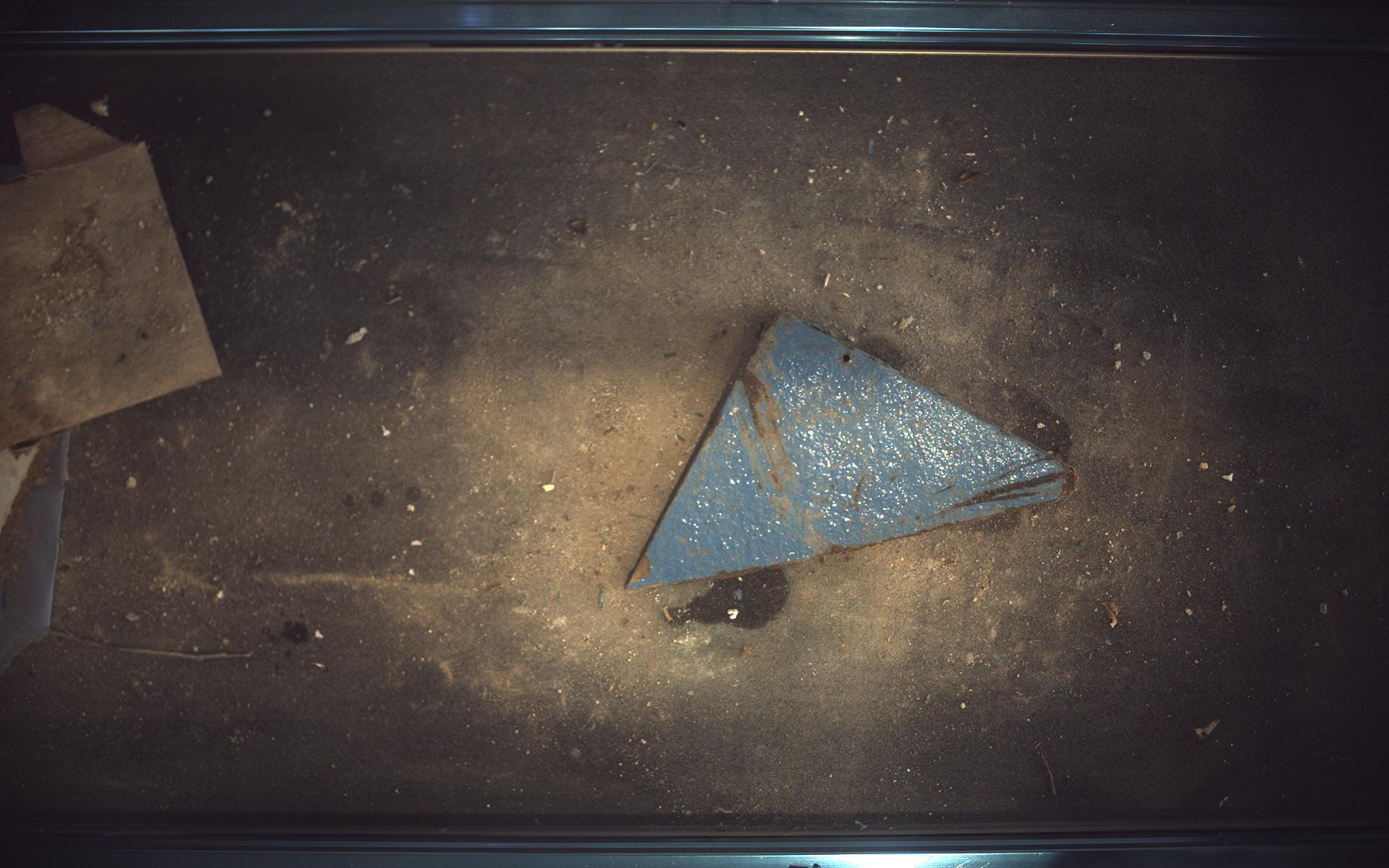wood: (627, 315, 1074, 590), (1, 142, 220, 449), (12, 104, 124, 173), (1, 443, 38, 529)
